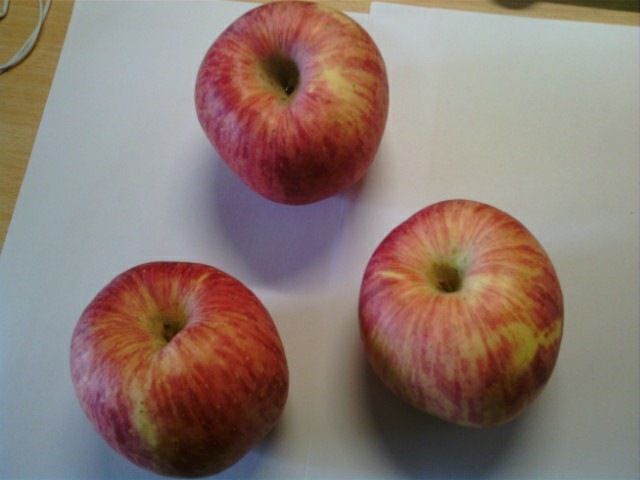normal_apple: (70, 260, 290, 476), (357, 200, 565, 426), (196, 3, 389, 205)
